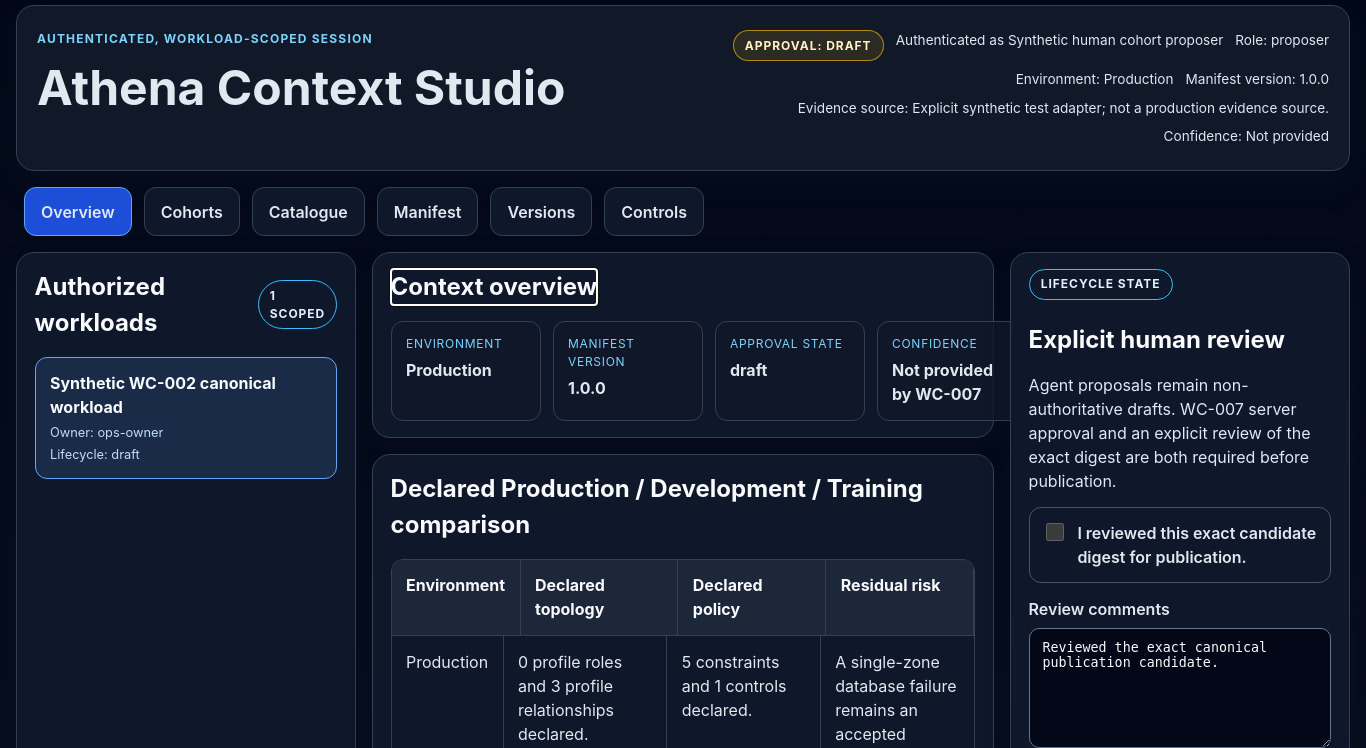
it: cohort proposal review › renders an empty proposal batch without issuing an invalid decision query
Click the button "Cohorts". click: (192, 212)
box: top-left (144, 187), bottom-right (240, 236)
(page scrolled)
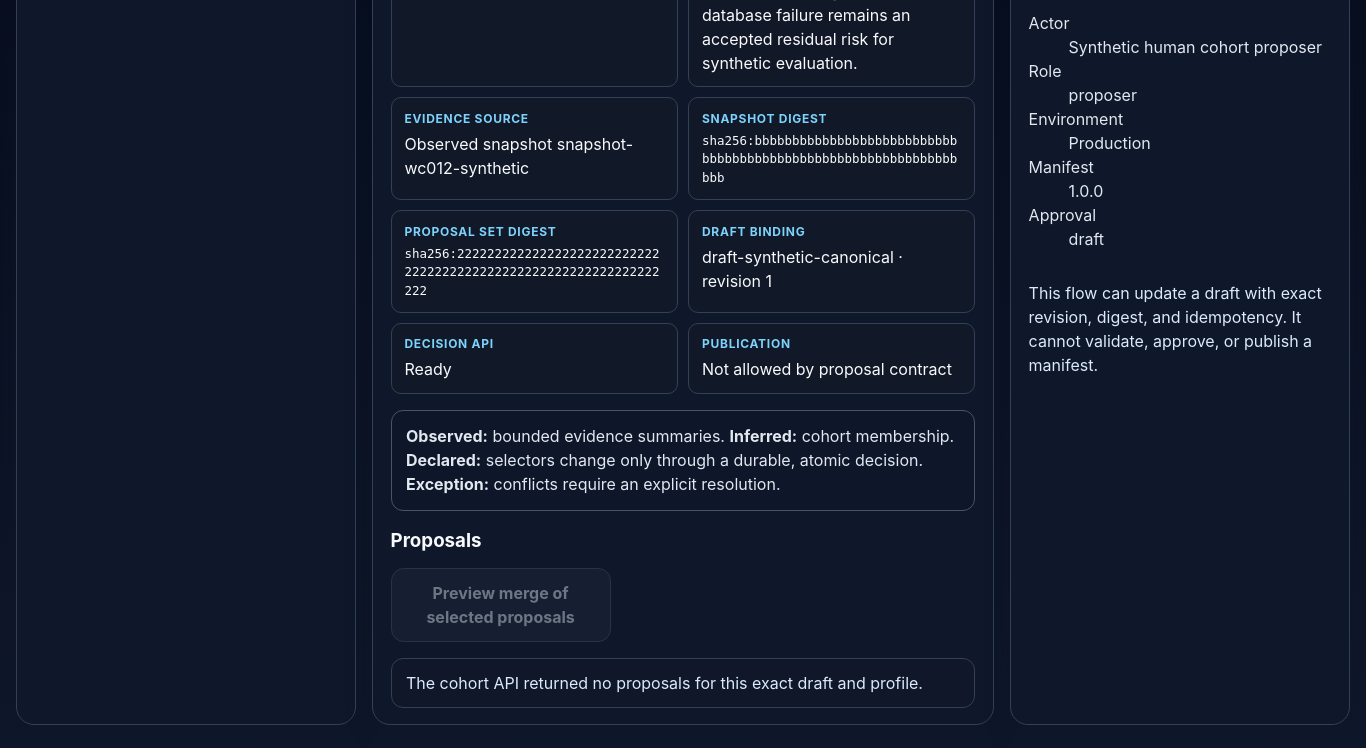
Result: the text "returned no proposals" is shown at top-left (406, 673), bottom-right (923, 693)
